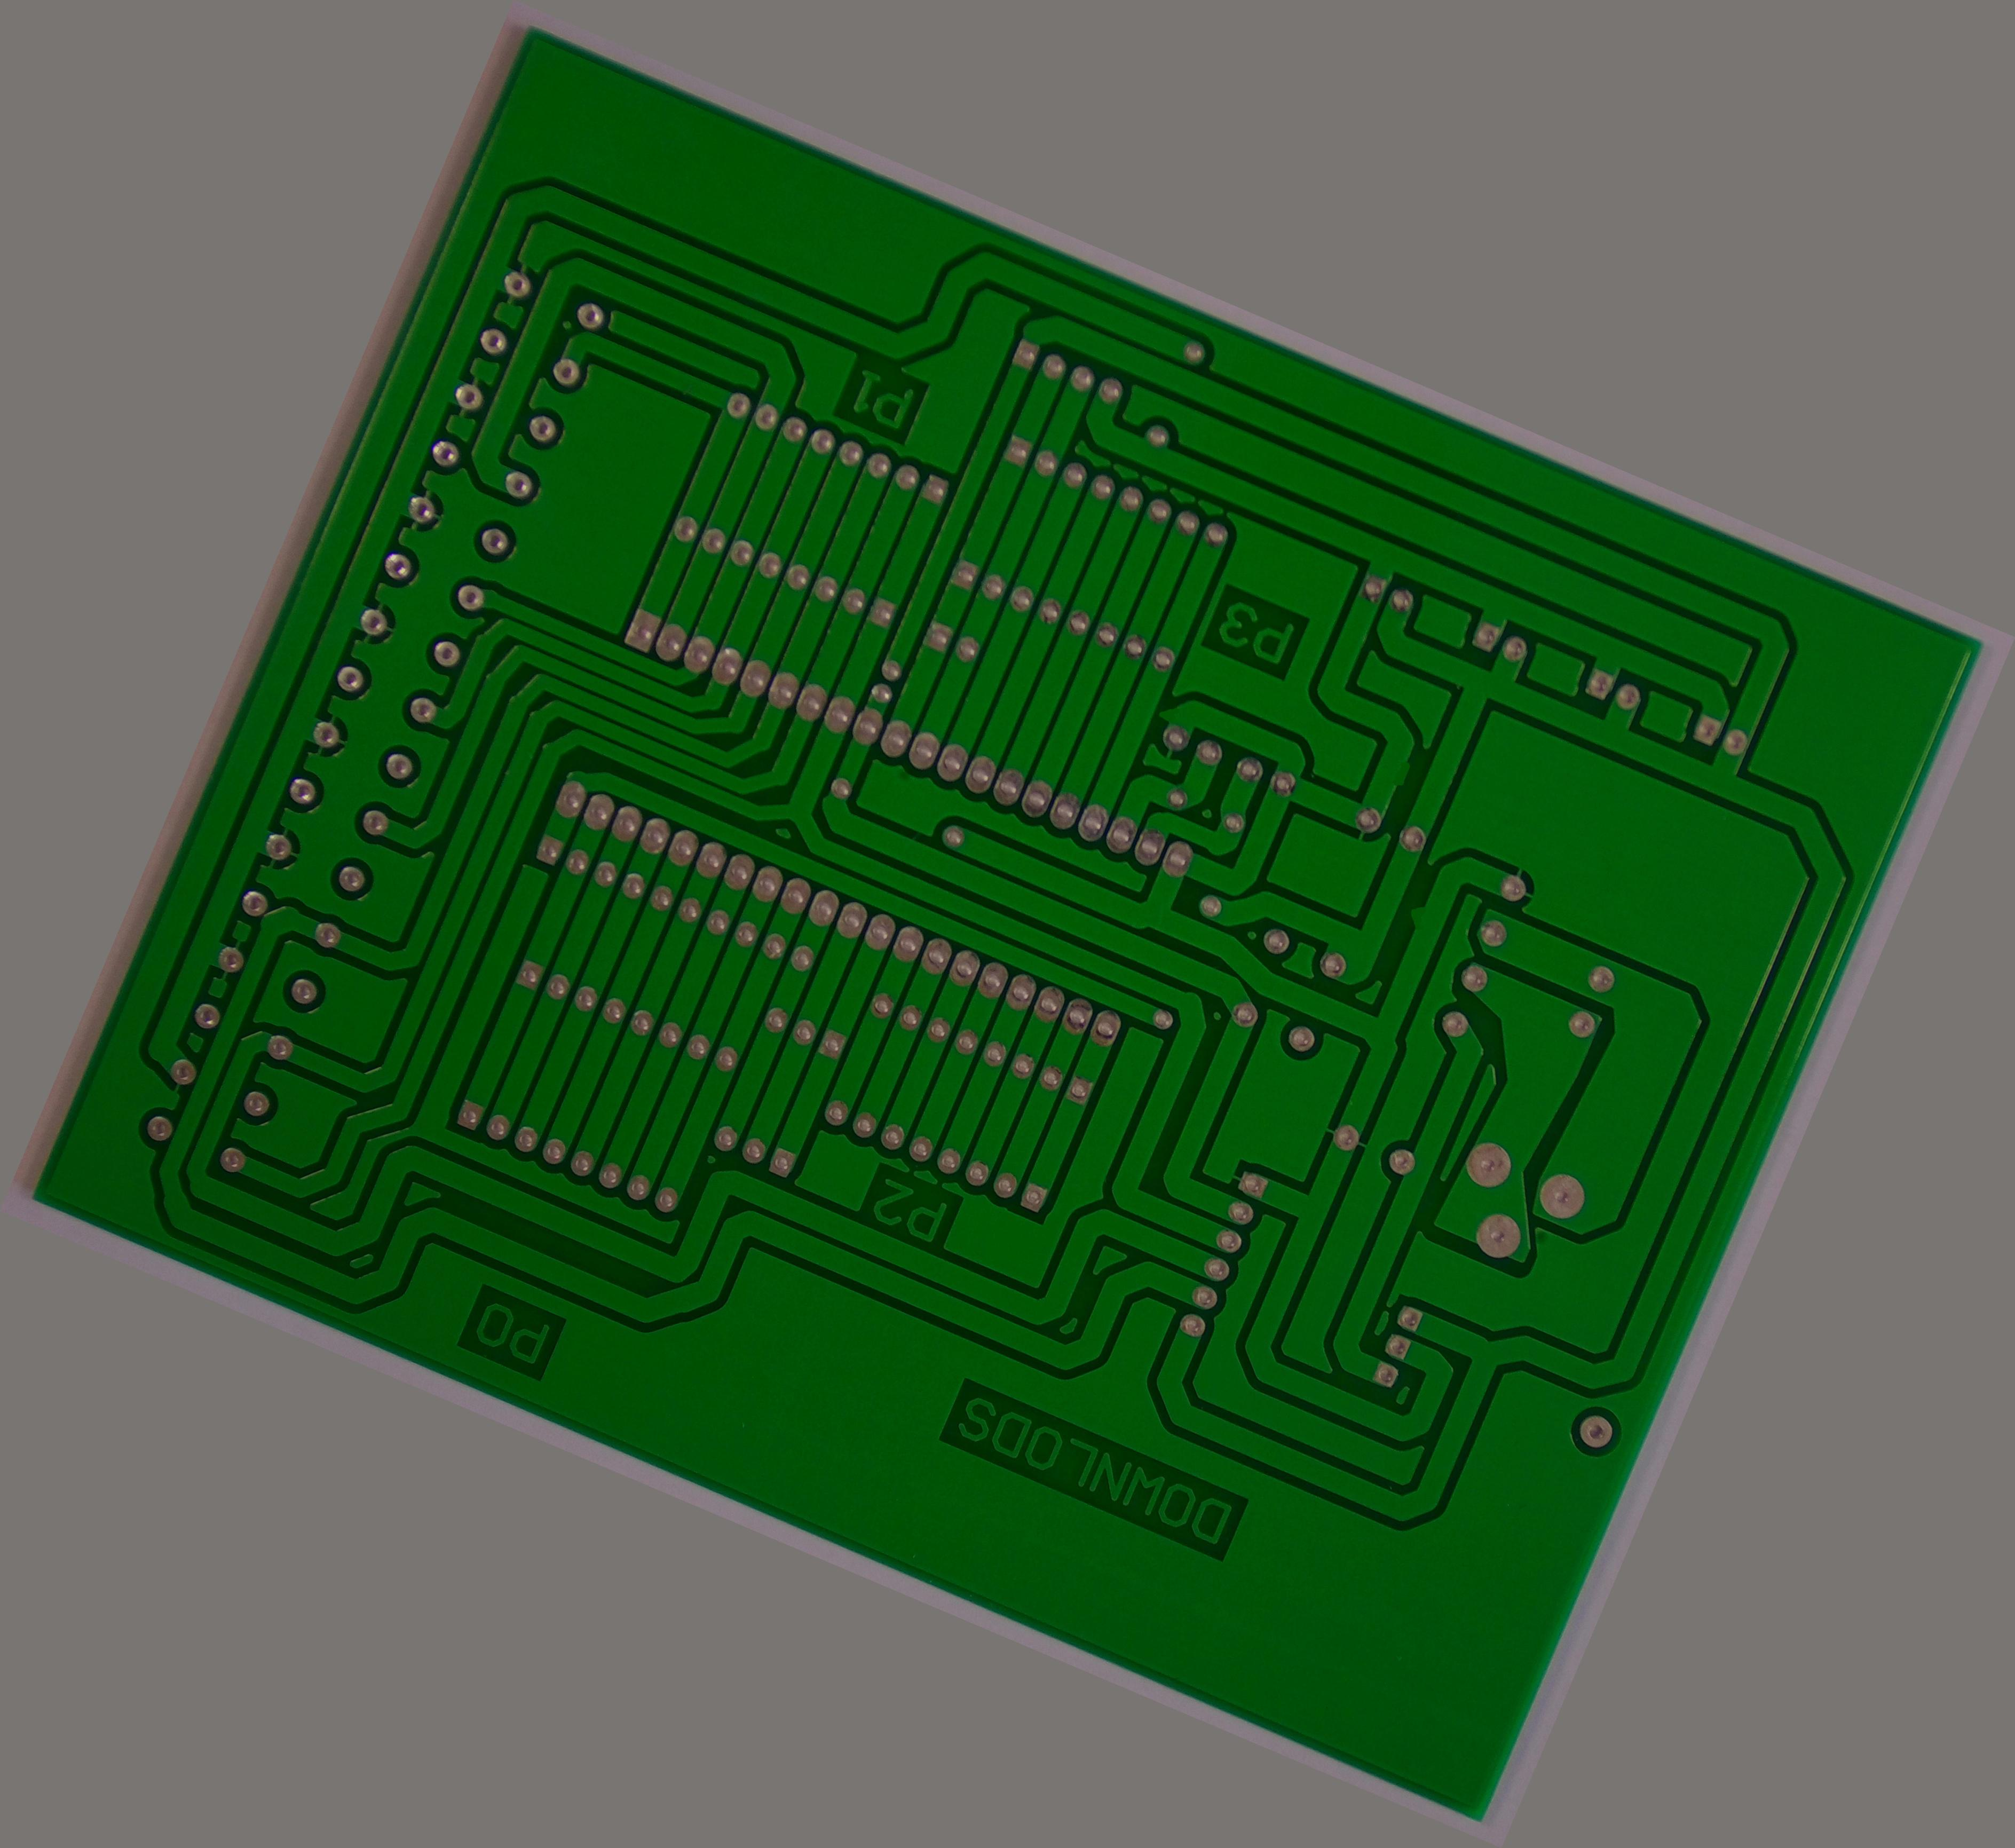spur: (1397, 890, 1443, 939), (1381, 746, 1423, 799), (1153, 695, 1185, 732)
